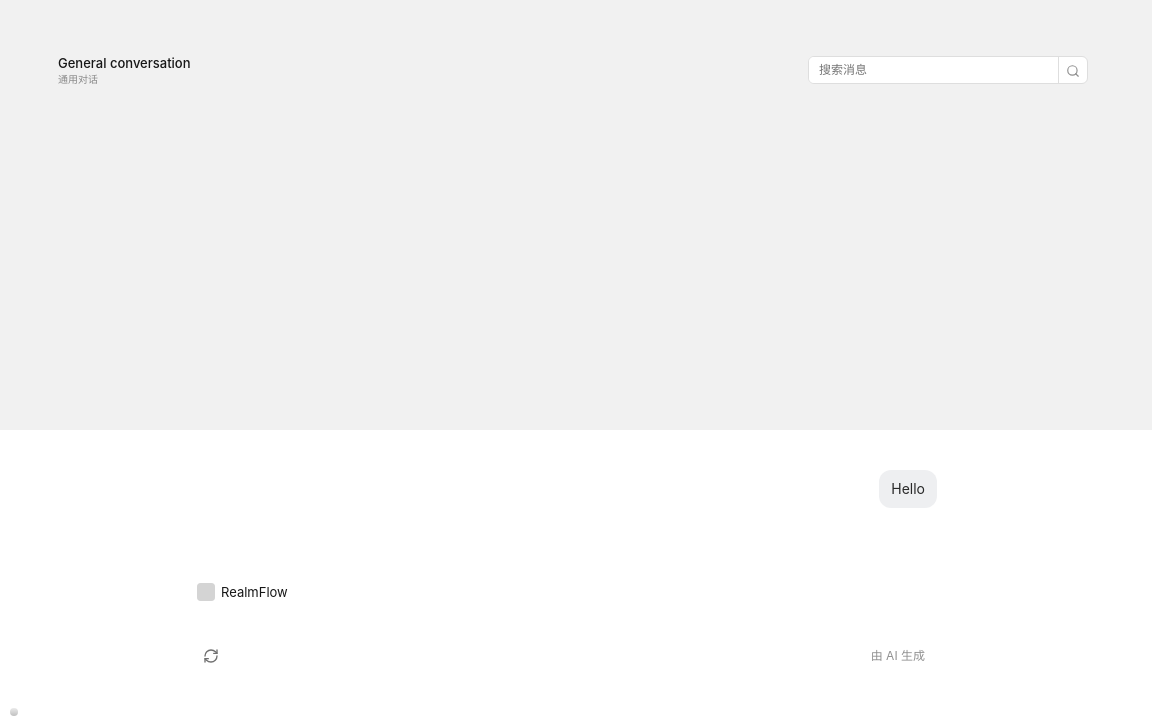
Scenario: general conversation pages › clears the current conversation search without submitting the stale query
(page scrolled)
In the search field named "搜索当前对话": (934, 71) [809,57,1058,85], type "OK"
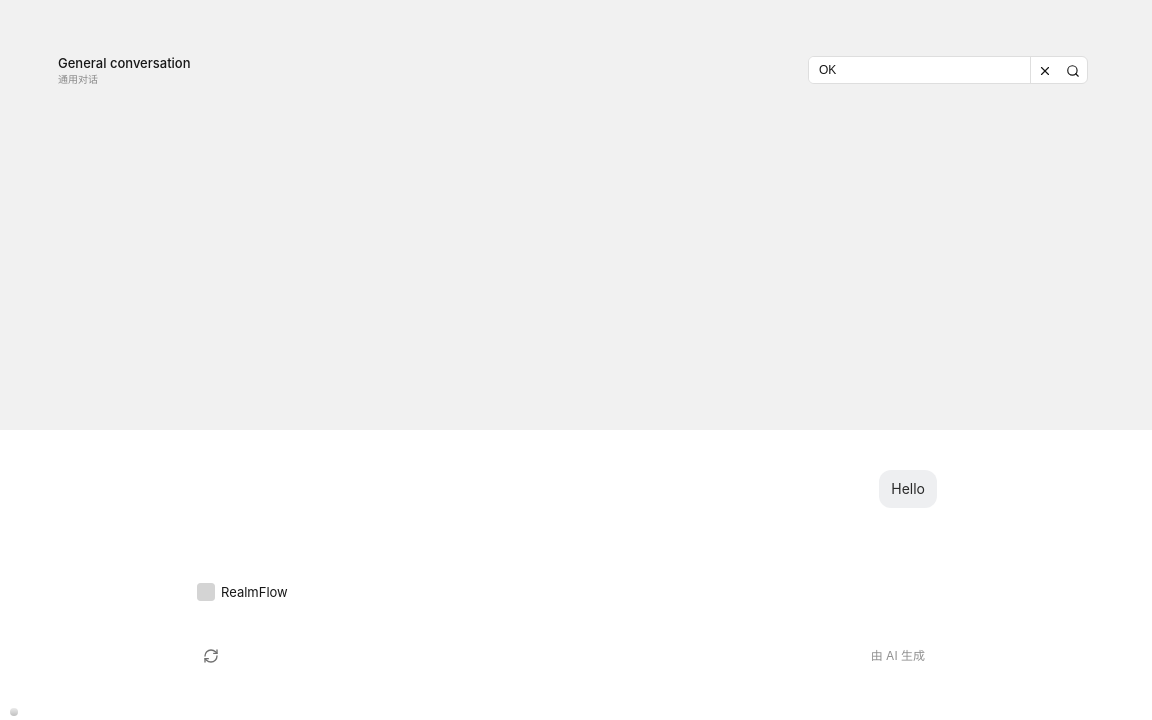
Click the button named "清除搜索": (1045, 71) [1031,57,1059,85]
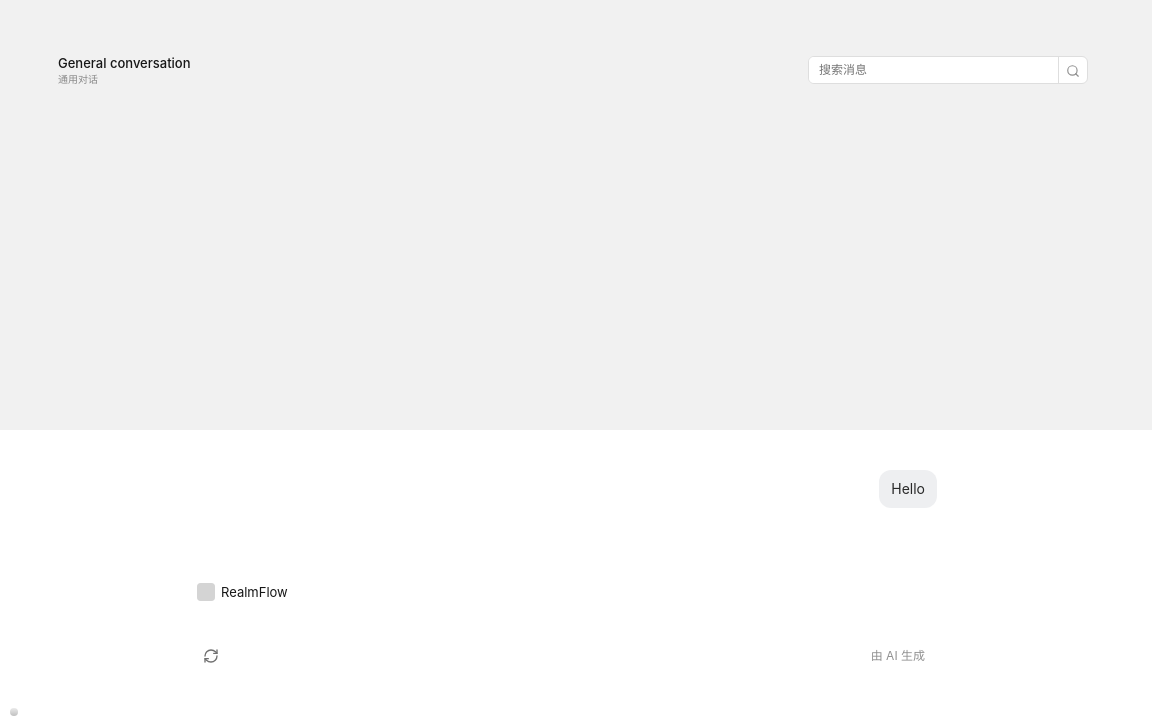
Expected: the search field named "搜索当前对话" is empty, [809,57,1058,84]
Expected: the button named "搜索" is disabled, [1059,57,1087,84]
